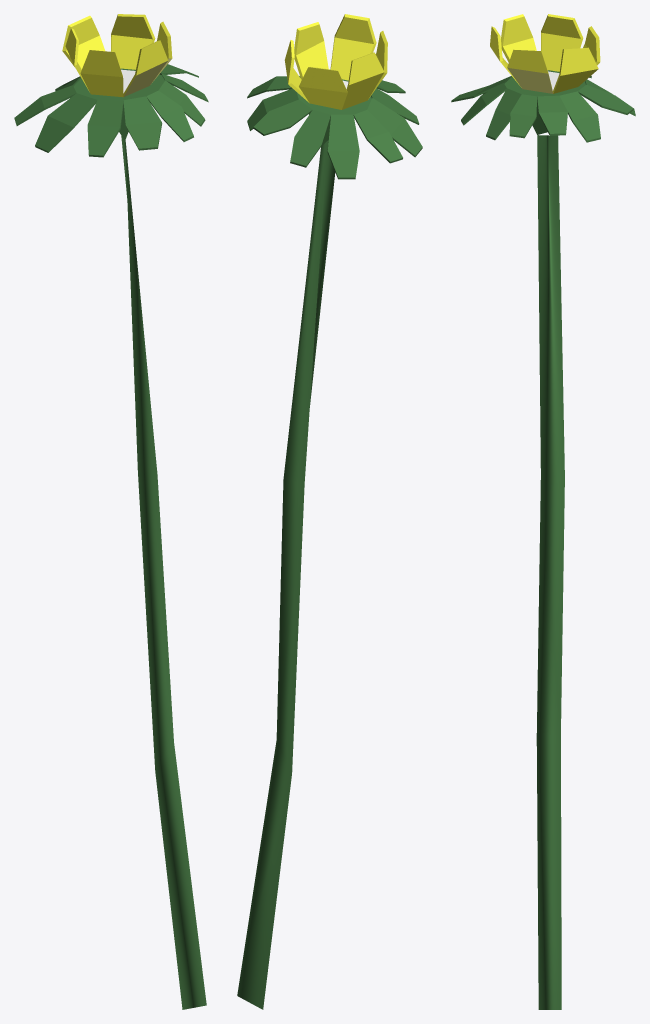
Rendered from flowererantis01.gltf.
The picture shows the model from 3 angles, left to right: view 1: azimuth 30°, elevation 25°; view 2: azimuth 150°, elevation 25°; view 3: azimuth 270°, elevation 25°; orthographic projection. The views are drawn at different scales.
Visible parts, largest first — view 1: Cylinder.009; view 2: Cylinder.009; view 3: Cylinder.009.
Part boxes in pixels (left/top/right/bottom): Cylinder.009: left=14, top=14, right=208, bottom=1009; Cylinder.009: left=237, top=14, right=422, bottom=1009; Cylinder.009: left=451, top=14, right=635, bottom=1009.
Bounding box in the file's own units: 0.0526 × 0.2844 × 0.05.
1 material, 1 textured.
